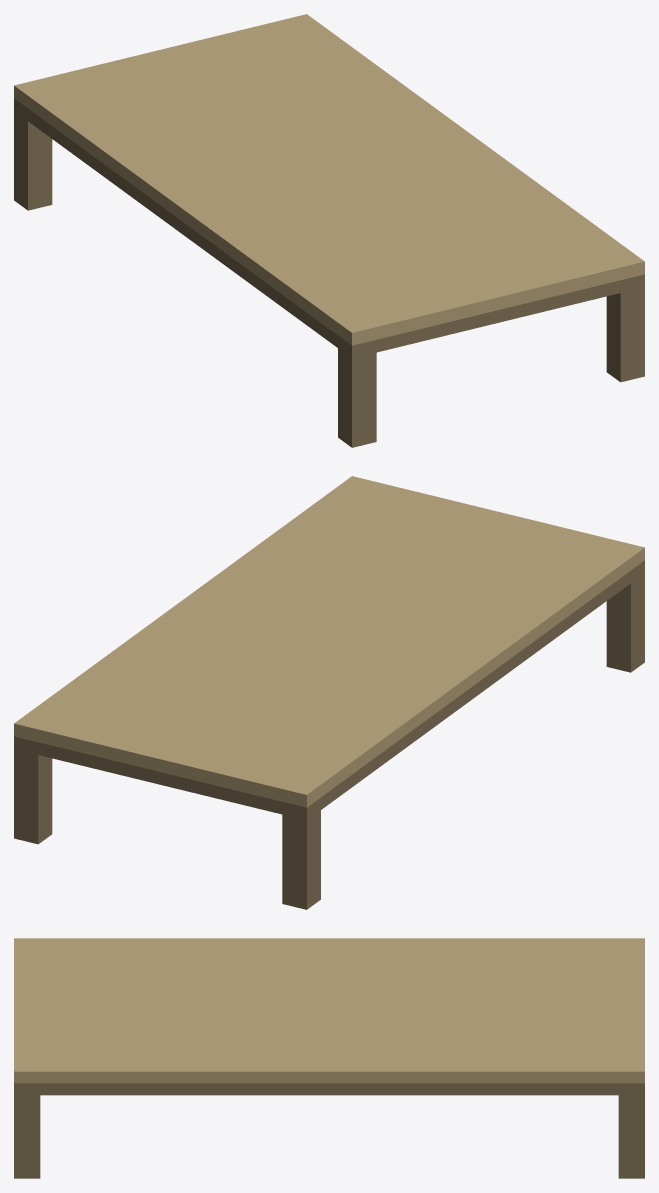
File: mesa_consejo_tejo_01.glb
The picture shows the model from 3 angles, top to bottom: view 1: azimuth 30°, elevation 25°; view 2: azimuth 150°, elevation 25°; view 3: azimuth 270°, elevation 25°; orthographic projection. The views are drawn at different scales.
Visible parts, largest first — view 1: mesa_consejo_tejo; view 2: mesa_consejo_tejo; view 3: mesa_consejo_tejo.
Boxes of the visible parts, <box> form: mesa_consejo_tejo: <box>14,14,644,447</box>; mesa_consejo_tejo: <box>14,476,644,909</box>; mesa_consejo_tejo: <box>14,938,644,1178</box>.
Bounding box in the file's own units: 2 × 0.75 × 4.
